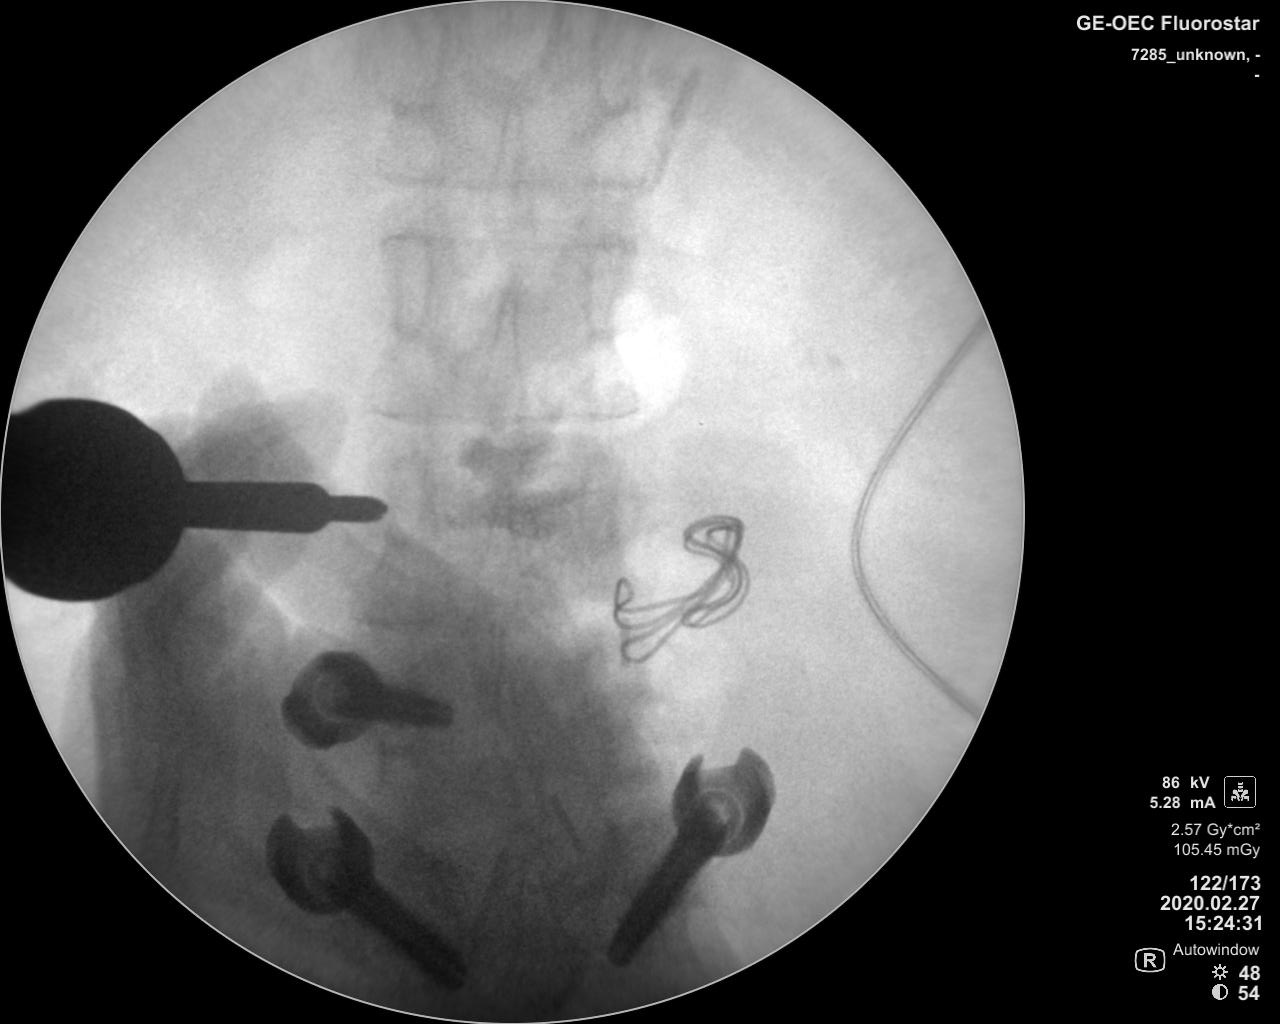eyes: (379, 11, 453, 111), (382, 229, 430, 341), (589, 14, 639, 117), (584, 239, 625, 334)
line: (378, 163, 664, 202), (362, 402, 651, 430)
nose: (485, 94, 534, 252), (479, 283, 525, 438)
